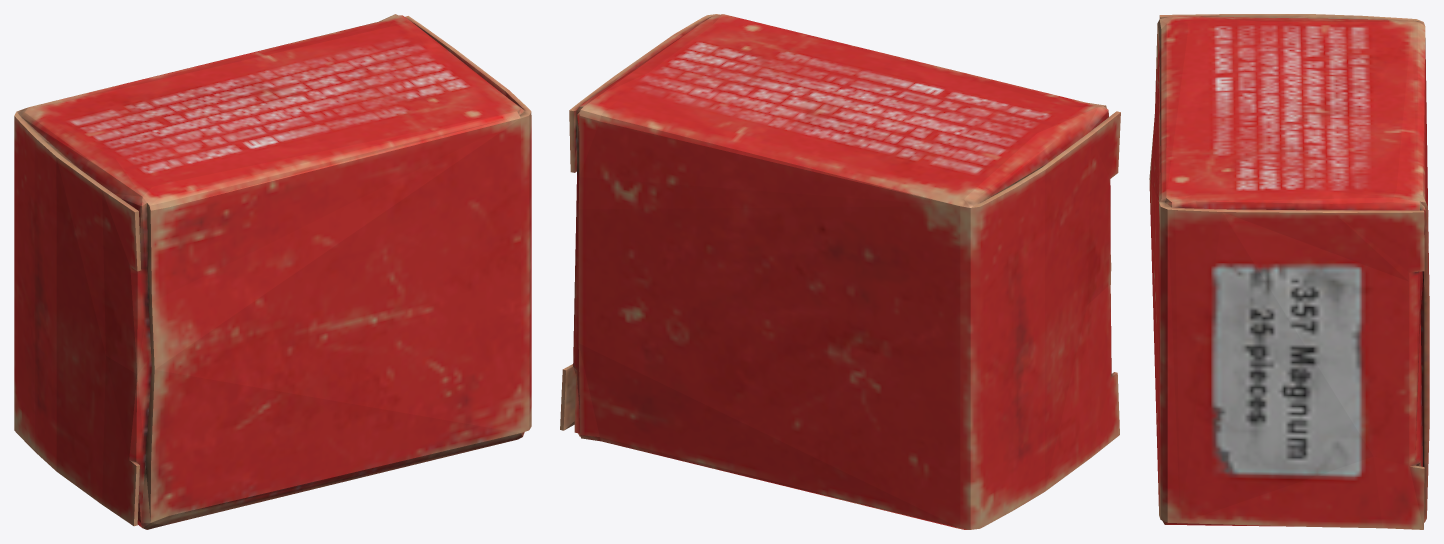
The picture shows the model from 3 angles, left to right: view 1: azimuth 30°, elevation 25°; view 2: azimuth 150°, elevation 25°; view 3: azimuth 270°, elevation 25°; orthographic projection. The views are drawn at different scales.
Parts seen in each view (by area): view 1: TW_657023eccfc010a0f50069ef_PZ_Import; view 2: TW_657023eccfc010a0f50069ef_PZ_Import; view 3: TW_657023eccfc010a0f50069ef_PZ_Import.
Part boxes in pixels (bbox=[...]): TW_657023eccfc010a0f50069ef_PZ_Import: bbox=[14, 14, 531, 529]; TW_657023eccfc010a0f50069ef_PZ_Import: bbox=[560, 14, 1120, 529]; TW_657023eccfc010a0f50069ef_PZ_Import: bbox=[1149, 14, 1429, 529].
Size of the model in its own units: 0.0402 by 0.0234 by 0.0306.
Materials: 1 (1 with a texture image).
